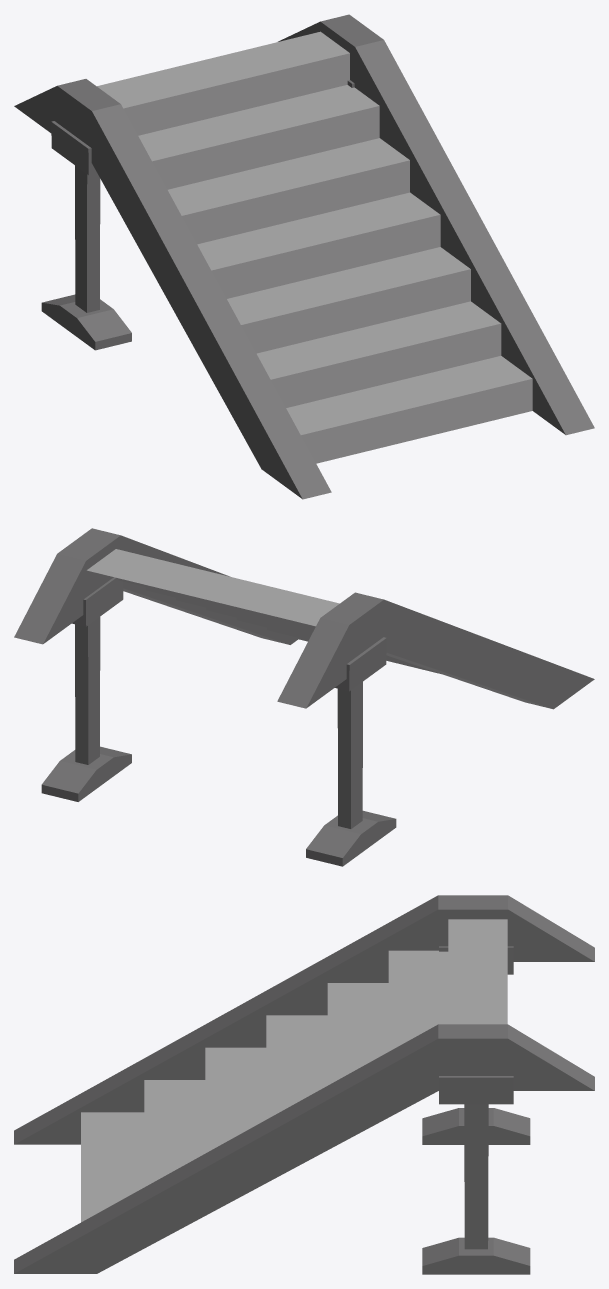
The model's file is Stairs_Sphere.obj.
3 views of the same model, one above another, from view 1: azimuth 30°, elevation 25°; view 2: azimuth 150°, elevation 25°; view 3: azimuth 270°, elevation 25° (orthographic).
Parts seen in each view (by area): view 1: Stairs_Sphere.016; view 2: Stairs_Sphere.016; view 3: Stairs_Sphere.016.
Part boxes in pixels (left/top/right/bottom): Stairs_Sphere.016: left=14, top=14, right=594, bottom=499; Stairs_Sphere.016: left=14, top=528, right=594, bottom=866; Stairs_Sphere.016: left=14, top=895, right=594, bottom=1274.
Size of the model in its own units: 1.87 by 1.39 by 3.11.
